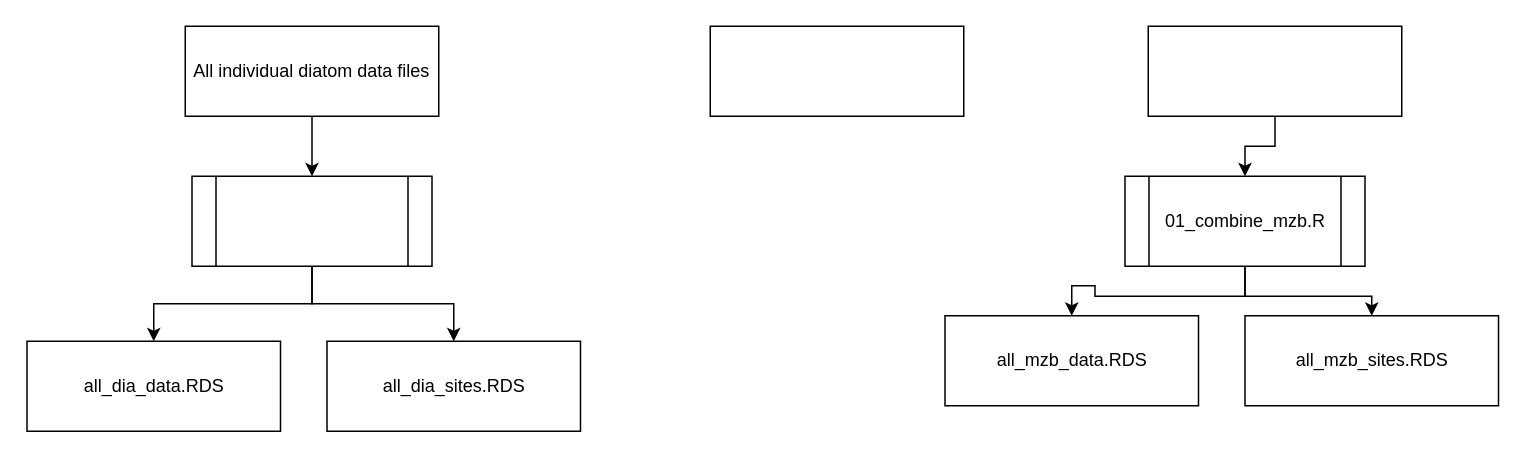
This 1524x458 diagram has some shape labels left out. Each missing label, with the centre of its shape:
01_combine_dia.R: (x=311, y=220)
All individual mzb data files: (x=1274, y=70)
Typology Files: (x=836, y=70)
